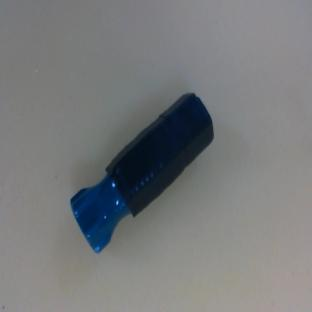part_2_bad: (57, 87, 229, 255)
